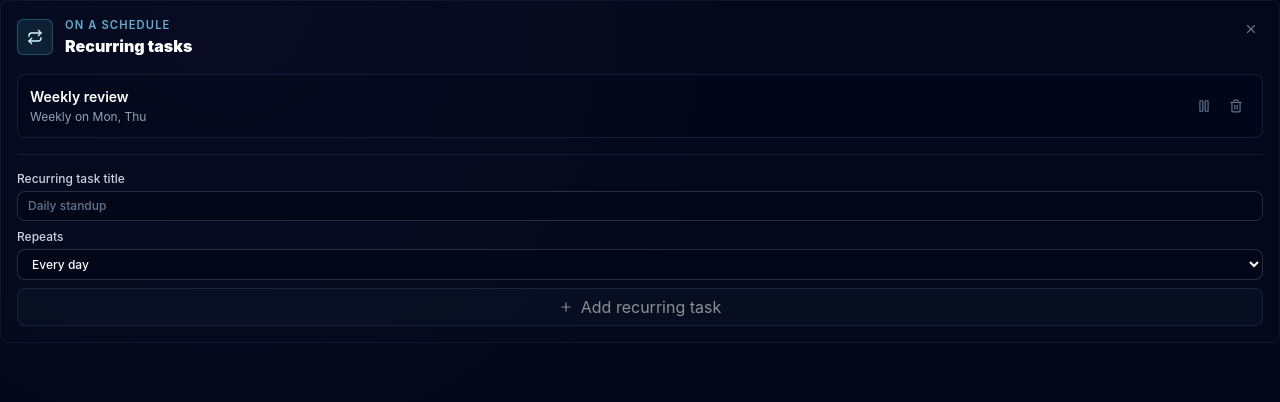
Test: RecurringTasksPanel › only asks for weekdays on a weekly rule
The width and height of the screenshot is (1280, 402).
Select "Weekly" in the dropdown named "Recurrence pattern" at [640, 264], box [17, 249, 1263, 280]
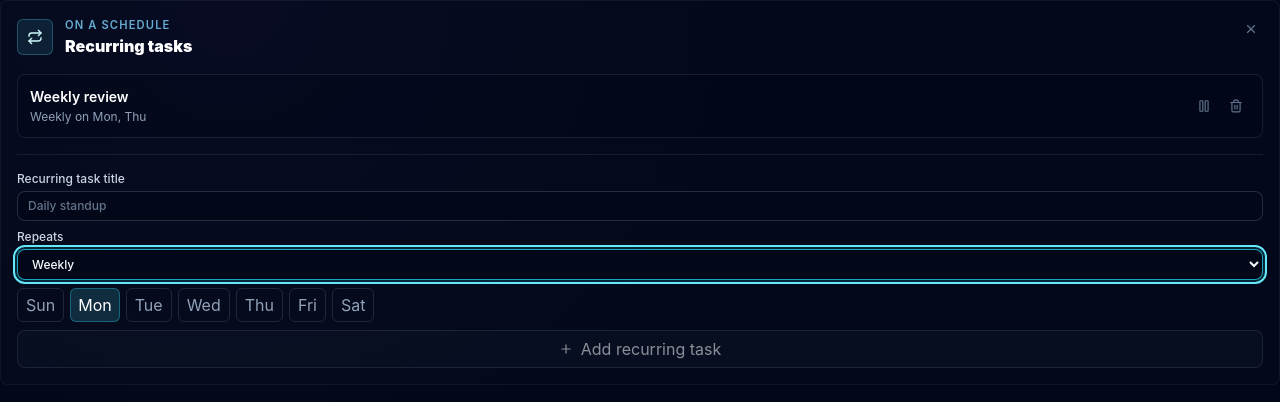
Now the element named "Weekdays" is shown, box [17, 288, 374, 322]
